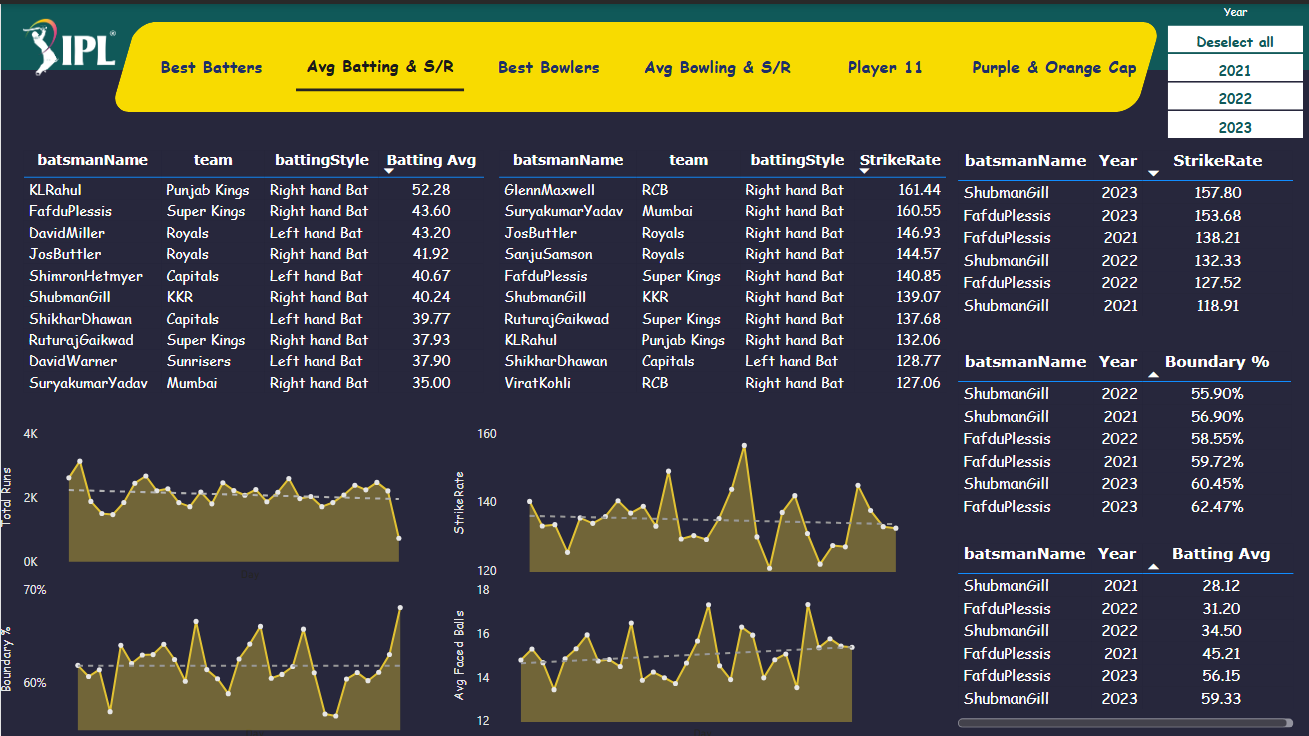

The dashboard page shown, as its layout file describes it:
{"tool":"powerbi","page":{"name":"Avg Batting & S/R","canvas":[1280,720],"ordinal":1},"visuals":[{"type":"shape","box":[0,64.6,1280.5,655.2],"z":0},{"type":"shape","box":[107.1,17.6,1028.7,88],"z":1000},{"type":"image","box":[15.8,6.3,100.8,72.5],"z":2000},{"type":"advancedSlicerVisual","fields":{"Values":["dim_match_summary.matchdate.Variation.Date Hierarchy.Year"]},"box":[1135.8,0,143.8,137.9],"z":3000},{"type":"tableEx","fields":{"Values":["fact_bating_summary.batsmanName","dim_players.team","dim_players.battingStyle","All_Measures.Batting Avg"]},"box":[16.1,137.9,465.2,272.9],"z":4000},{"type":"lineChart","fields":{"Y":["All_Measures.Boundary %"],"Category":["dim_match_summary.matchdate.Variation.Date Hierarchy.Day"]},"box":[0,563.9,442.6,155.9],"z":5000},{"type":"lineChart","fields":{"Category":["dim_match_summary.matchdate.Variation.Date Hierarchy.Day"],"Y":["All_Measures.Total Runs"]},"box":[0,411.1,442.6,152.8],"z":6000},{"type":"lineChart","fields":{"Y":["All_Measures.Avg Faced Balls"],"Category":["dim_match_summary.matchdate.Variation.Date Hierarchy.Day"]},"box":[442.6,563.9,442.6,155.9],"z":7000},{"type":"lineChart","fields":{"Y":["All_Measures.StrikeRate"],"Category":["dim_match_summary.matchdate.Variation.Date Hierarchy.Day"]},"box":[442.6,411.1,442.6,152.8],"z":8000},{"type":"tableEx","fields":{"Values":["fact_bating_summary.batsmanName","dim_match_summary.matchdate.Variation.Date Hierarchy.Year","All_Measures.Batting Avg"]},"box":[930.9,522.9,339,190.6],"z":9000},{"type":"tableEx","fields":{"Values":["fact_bating_summary.batsmanName","dim_players.team","dim_players.battingStyle","All_Measures.StrikeRate"]},"box":[481.3,137.9,465.2,272.9],"z":10000},{"type":"tableEx","fields":{"Values":["fact_bating_summary.batsmanName","dim_match_summary.matchdate.Variation.Date Hierarchy.Year","All_Measures.StrikeRate"]},"box":[930.9,138.6,339,190.6],"z":11000},{"type":"tableEx","fields":{"Values":["fact_bating_summary.batsmanName","dim_match_summary.matchdate.Variation.Date Hierarchy.Year","All_Measures.Boundary %"]},"box":[930.3,333.9,339,190],"z":12000},{"type":"pageNavigator","box":[123.3,36.7,994.9,49.9],"z":13000}]}

Visuals, with their boxes in screenshot pixels (x1, y1, x2, y2), scaled from the page's 1280x720 canvas onto the 1309x736 screenshot:
shape: pyautogui.locateOnScreen(0, 66, 1308, 735)
shape: pyautogui.locateOnScreen(110, 18, 1162, 108)
image: pyautogui.locateOnScreen(16, 6, 119, 81)
advancedSlicerVisual - dim_match_summary.matchdate.Variation.Date Hierarchy.Year: pyautogui.locateOnScreen(1162, 0, 1308, 141)
tableEx - fact_bating_summary.batsmanName x dim_players.team: pyautogui.locateOnScreen(16, 141, 492, 420)
lineChart - All_Measures.Boundary % x dim_match_summary.matchdate.Variation.Date Hierarchy.Day: pyautogui.locateOnScreen(0, 576, 453, 735)
lineChart - dim_match_summary.matchdate.Variation.Date Hierarchy.Day x All_Measures.Total Runs: pyautogui.locateOnScreen(0, 420, 453, 576)
lineChart - All_Measures.Avg Faced Balls x dim_match_summary.matchdate.Variation.Date Hierarchy.Day: pyautogui.locateOnScreen(453, 576, 905, 735)
lineChart - All_Measures.StrikeRate x dim_match_summary.matchdate.Variation.Date Hierarchy.Day: pyautogui.locateOnScreen(453, 420, 905, 576)
tableEx - fact_bating_summary.batsmanName x dim_match_summary.matchdate.Variation.Date Hierarchy.Year: pyautogui.locateOnScreen(952, 535, 1299, 729)
tableEx - fact_bating_summary.batsmanName x dim_players.team: pyautogui.locateOnScreen(492, 141, 968, 420)
tableEx - fact_bating_summary.batsmanName x dim_match_summary.matchdate.Variation.Date Hierarchy.Year: pyautogui.locateOnScreen(952, 142, 1299, 337)
tableEx - fact_bating_summary.batsmanName x dim_match_summary.matchdate.Variation.Date Hierarchy.Year: pyautogui.locateOnScreen(951, 341, 1298, 536)
pageNavigator: pyautogui.locateOnScreen(126, 38, 1144, 89)
